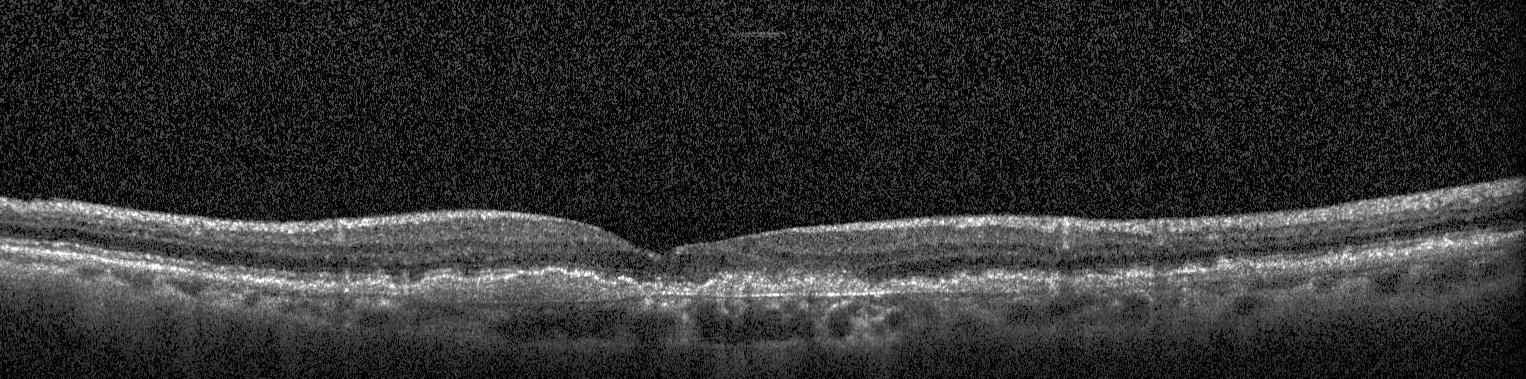retinal_drusen: (424, 268, 641, 303), (1007, 276, 1074, 290), (1114, 268, 1153, 282), (697, 282, 735, 296), (834, 277, 866, 292), (1170, 262, 1206, 275), (350, 282, 395, 292), (736, 281, 770, 294), (881, 282, 921, 292), (1076, 275, 1106, 286), (806, 278, 829, 292), (780, 280, 804, 293), (980, 278, 1004, 289), (1216, 258, 1231, 273), (957, 276, 974, 289), (1236, 260, 1252, 270), (941, 281, 956, 291), (643, 284, 654, 293)
